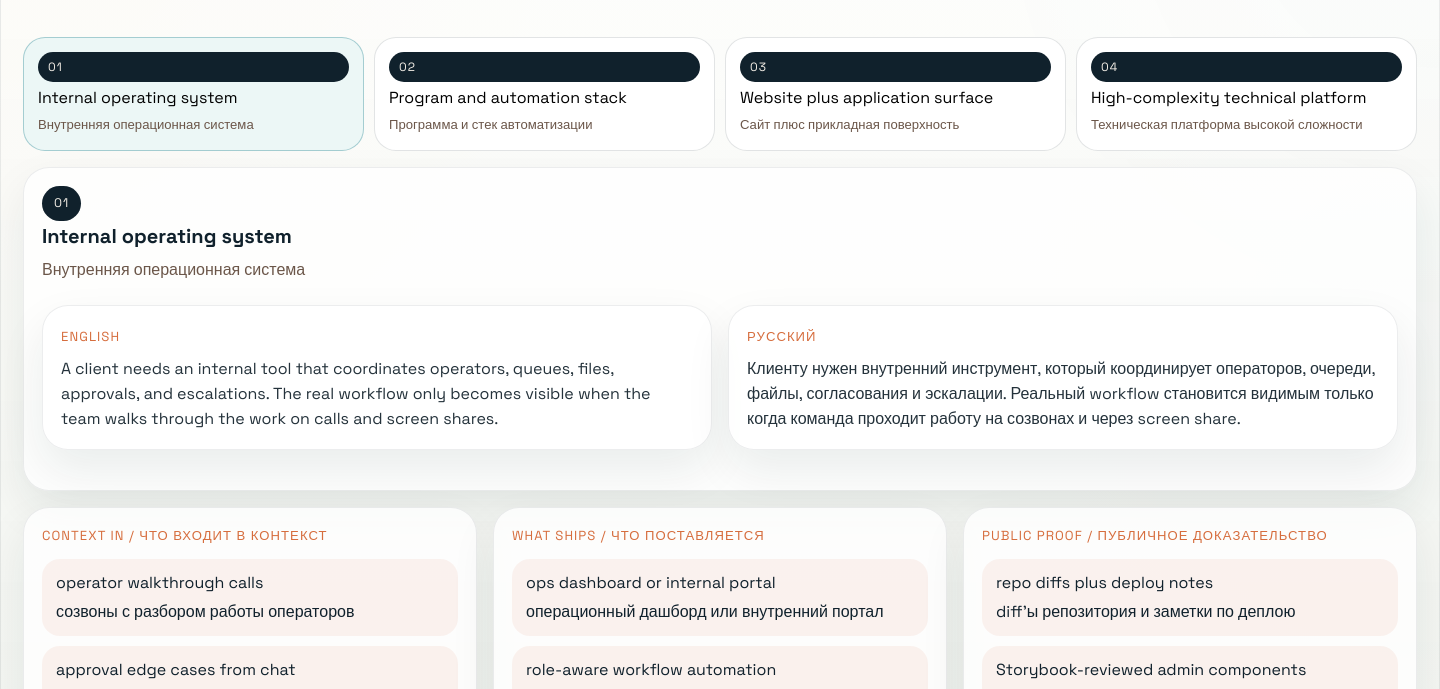
Test: BlueprintBoard › switches between engagement blueprints
This screenshot has width=1440, height=689.
Expected: the heading "Internal operating system" is shown, x1=42 y1=223 x2=292 y2=249
Step 1. Click the button "03 Website plus application surface" → (896, 94), box x1=725 y1=37 x2=1066 y2=151
(page scrolled)
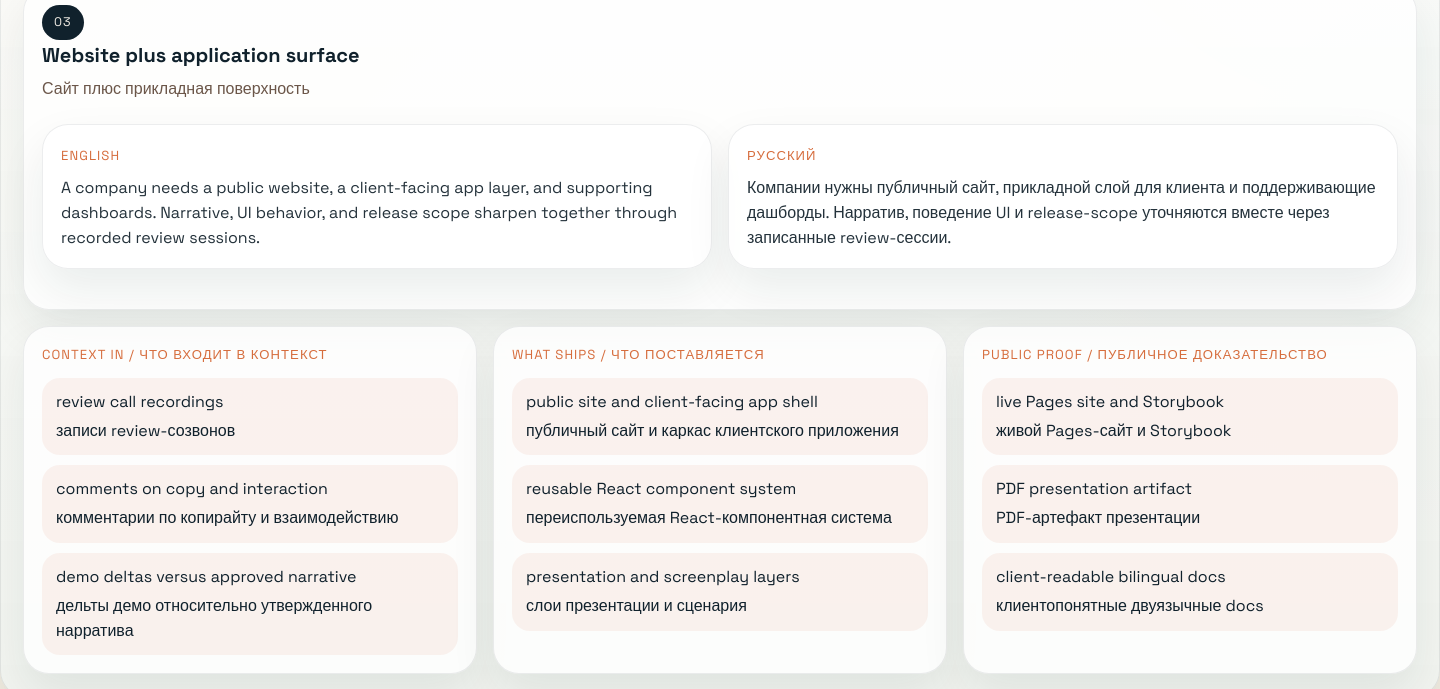
Expected: the heading "Website plus application surface" is shown, x1=42 y1=42 x2=360 y2=68
Expected: the text "live Pages site and Storybook" is shown, x1=996 y1=391 x2=1224 y2=412
Expected: the text "слои презентации и сценария" is shown, x1=526 y1=595 x2=747 y2=616
